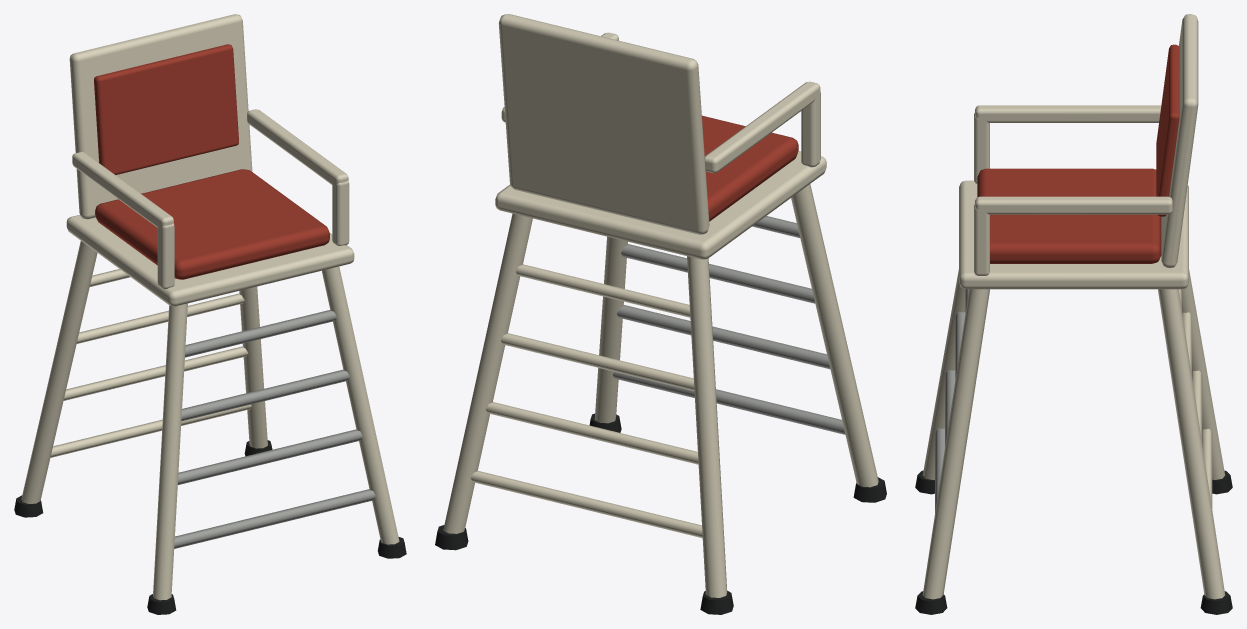
The model's file is lifeguard-chair.glb.
The picture shows the model from 3 angles, left to right: view 1: azimuth 30°, elevation 25°; view 2: azimuth 150°, elevation 25°; view 3: azimuth 270°, elevation 25°; orthographic projection. The views are drawn at different scales.
Visible parts, largest first — view 1: paint-ivory, paint-red, steel, rubber; view 2: paint-ivory, steel, paint-red, rubber; view 3: paint-ivory, paint-red, rubber, steel.
Boxes of the visible parts, <box> form: paint-ivory: <box>21,14,399,600</box>; paint-red: <box>94,44,329,279</box>; steel: <box>174,310,375,548</box>; rubber: <box>14,440,406,614</box>; paint-ivory: <box>443,14,878,597</box>; steel: <box>612,216,845,434</box>; paint-red: <box>702,115,798,221</box>; rubber: <box>435,413,886,614</box>; paint-ivory: <box>922,14,1225,599</box>; paint-red: <box>977,44,1179,263</box>; rubber: <box>915,470,1232,614</box>; steel: <box>935,289,969,512</box>.
Bounding box in the file's own units: 1.38 × 2.37 × 1.38.
